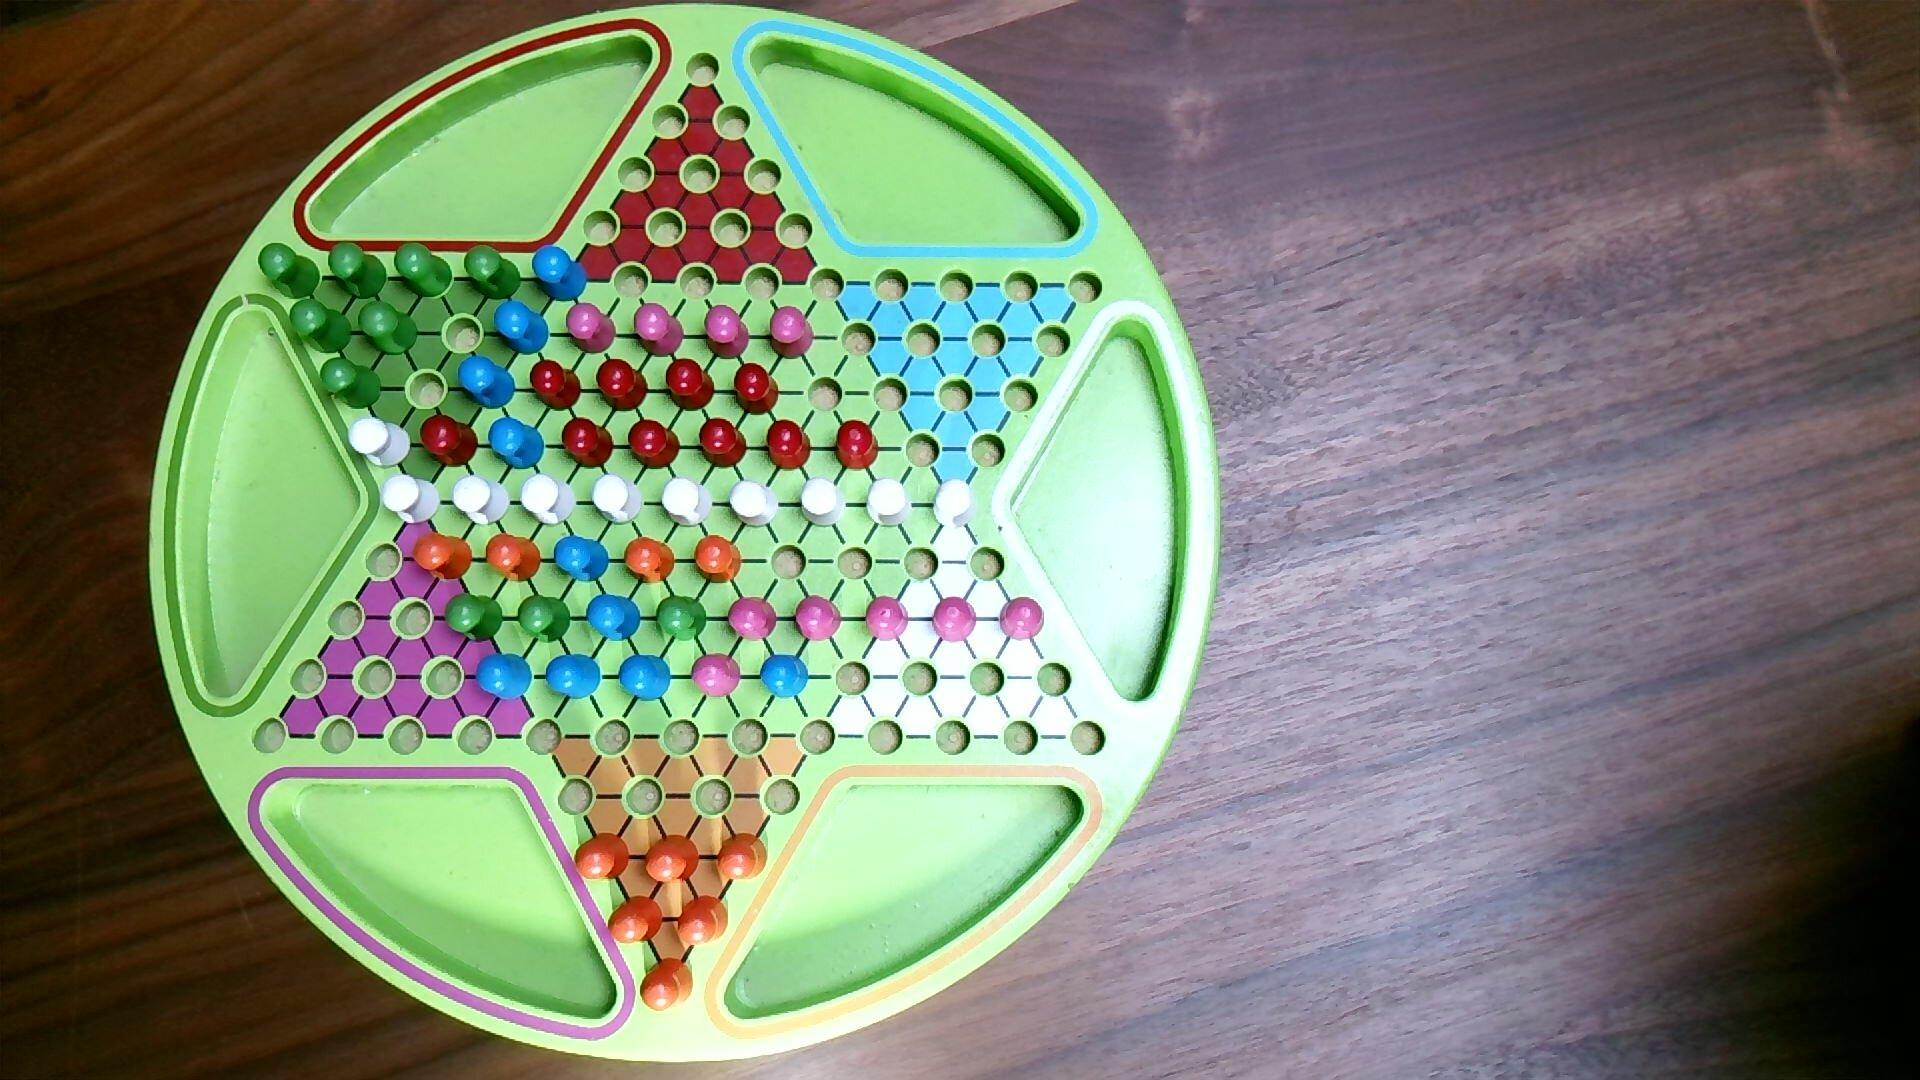B: (530, 243, 589, 305), (456, 353, 518, 411), (487, 415, 547, 473), (492, 299, 551, 357), (473, 651, 534, 703), (584, 592, 644, 644), (553, 534, 612, 585), (545, 653, 603, 702), (618, 654, 673, 704), (760, 653, 810, 700)
G: (326, 239, 389, 301), (257, 241, 323, 301), (287, 297, 353, 355), (356, 299, 421, 357), (393, 241, 455, 301), (462, 243, 524, 302), (318, 356, 384, 411), (443, 592, 506, 645), (516, 593, 574, 646), (654, 593, 709, 644)
O: (411, 530, 476, 584), (638, 956, 696, 1014), (642, 832, 702, 887), (572, 829, 633, 884), (484, 531, 545, 585), (607, 894, 666, 947), (675, 894, 731, 949), (713, 832, 770, 884), (692, 533, 745, 587), (622, 534, 676, 585)
R: (419, 411, 481, 469), (595, 357, 651, 415), (626, 418, 683, 473), (560, 417, 617, 471), (527, 359, 584, 413), (665, 357, 717, 413), (732, 360, 781, 418), (698, 415, 749, 469), (764, 418, 814, 473), (833, 418, 882, 473)
R2: (633, 301, 686, 360), (564, 302, 618, 357), (702, 303, 752, 363), (767, 305, 818, 363), (688, 651, 744, 700), (727, 595, 781, 644), (794, 593, 844, 644), (998, 595, 1047, 644), (864, 593, 911, 644), (932, 595, 978, 645)
W: (347, 415, 413, 471), (518, 472, 579, 529), (451, 473, 512, 527), (381, 473, 442, 525), (589, 472, 645, 527), (659, 476, 715, 530), (727, 477, 781, 530), (864, 476, 915, 530), (798, 476, 848, 529), (932, 477, 977, 531)
